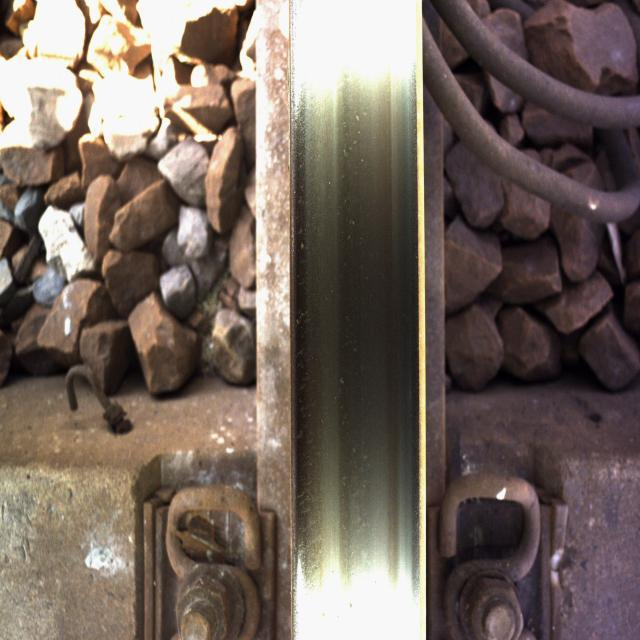break: (310, 32, 399, 612)
